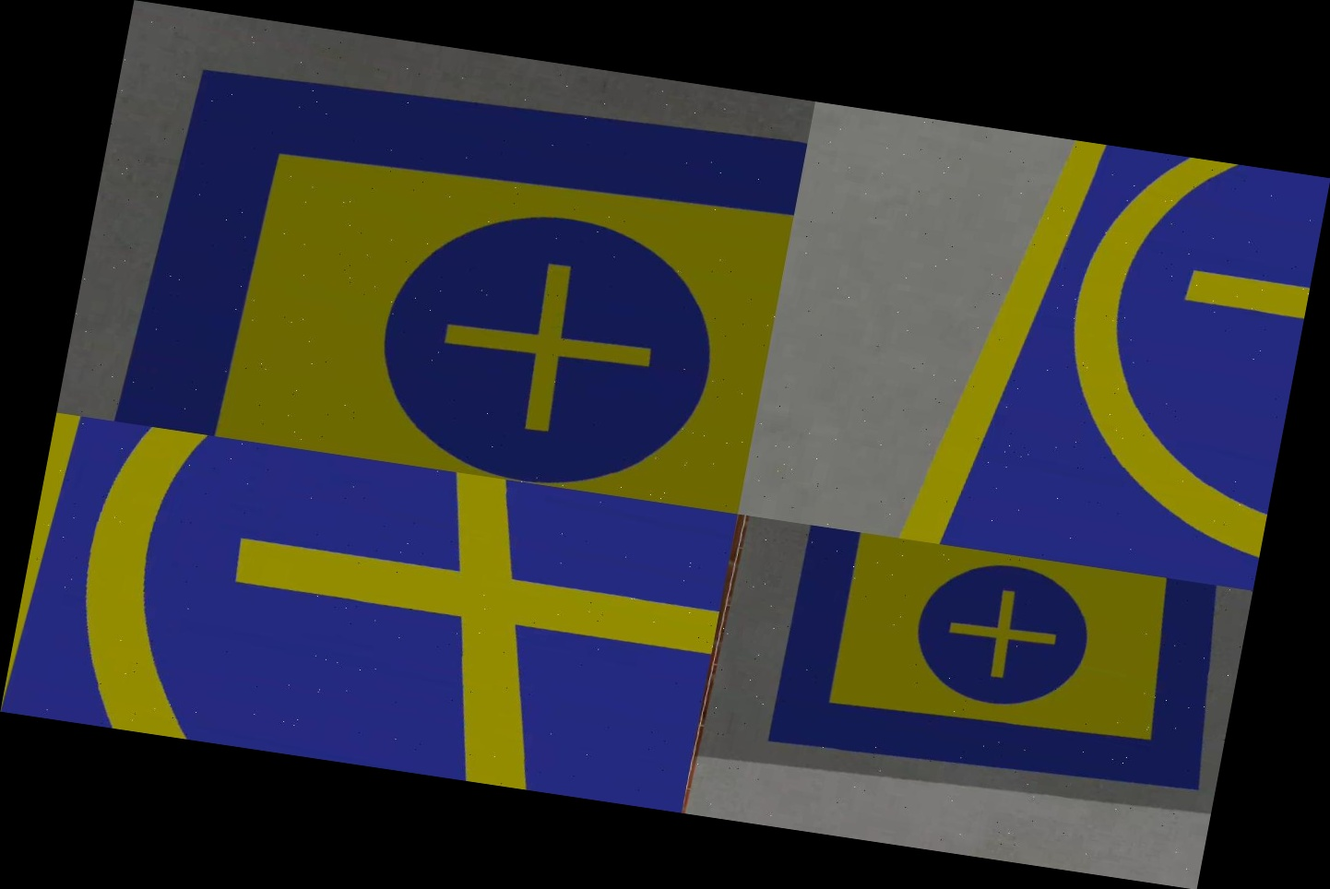large_base: (94, 6, 815, 514), (743, 522, 1252, 835)
small_base: (0, 412, 738, 812), (875, 122, 1330, 591)
